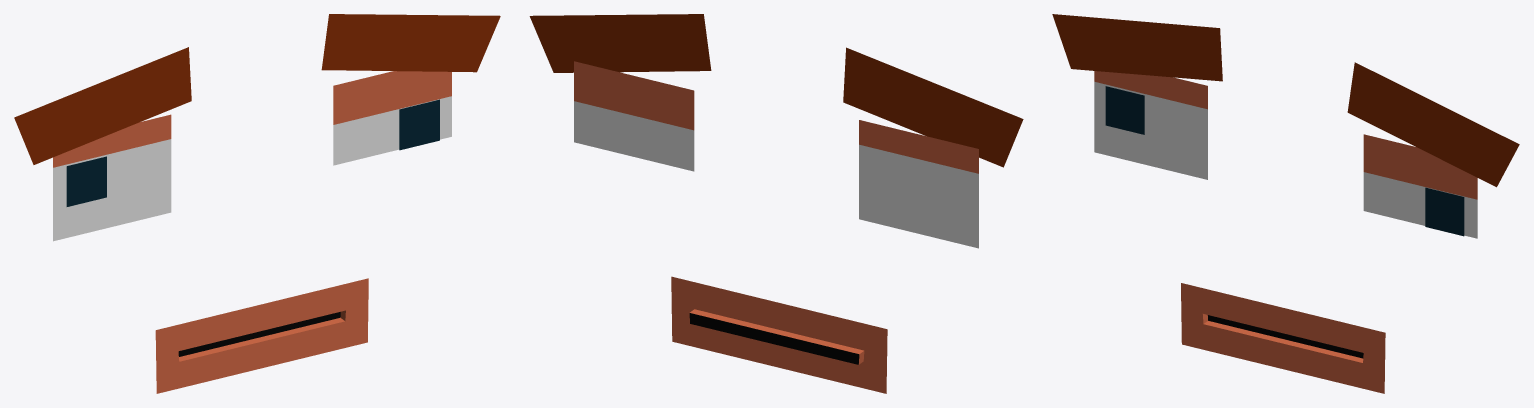
The model's file is Face Male 06.FBX.
3 renders of one model, left to right at view 1: azimuth 30°, elevation 25°; view 2: azimuth 150°, elevation 25°; view 3: azimuth 330°, elevation 25°, orthographic. The views are drawn at different scales.
Visible parts, largest first — view 1: Face Male 06; view 2: Face Male 06; view 3: Face Male 06.
Boxes of the visible parts, x1=… form: Face Male 06: x1=14, y1=14, x2=500, y2=393; Face Male 06: x1=529, y1=14, x2=1023, y2=393; Face Male 06: x1=1052, y1=14, x2=1519, y2=393.
Bounding box in the file's own units: 44.6 × 29.36 × 1.01.
1 material, 1 textured.
